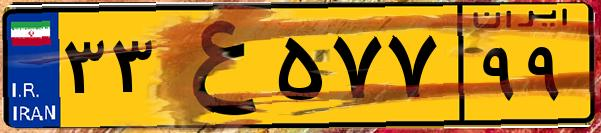3: (57, 26, 110, 100), (110, 28, 158, 98)
5: (270, 28, 330, 110)
7: (385, 28, 445, 110), (330, 28, 385, 110)
9: (475, 38, 525, 113), (525, 38, 570, 115)
ع: (158, 12, 270, 120)
